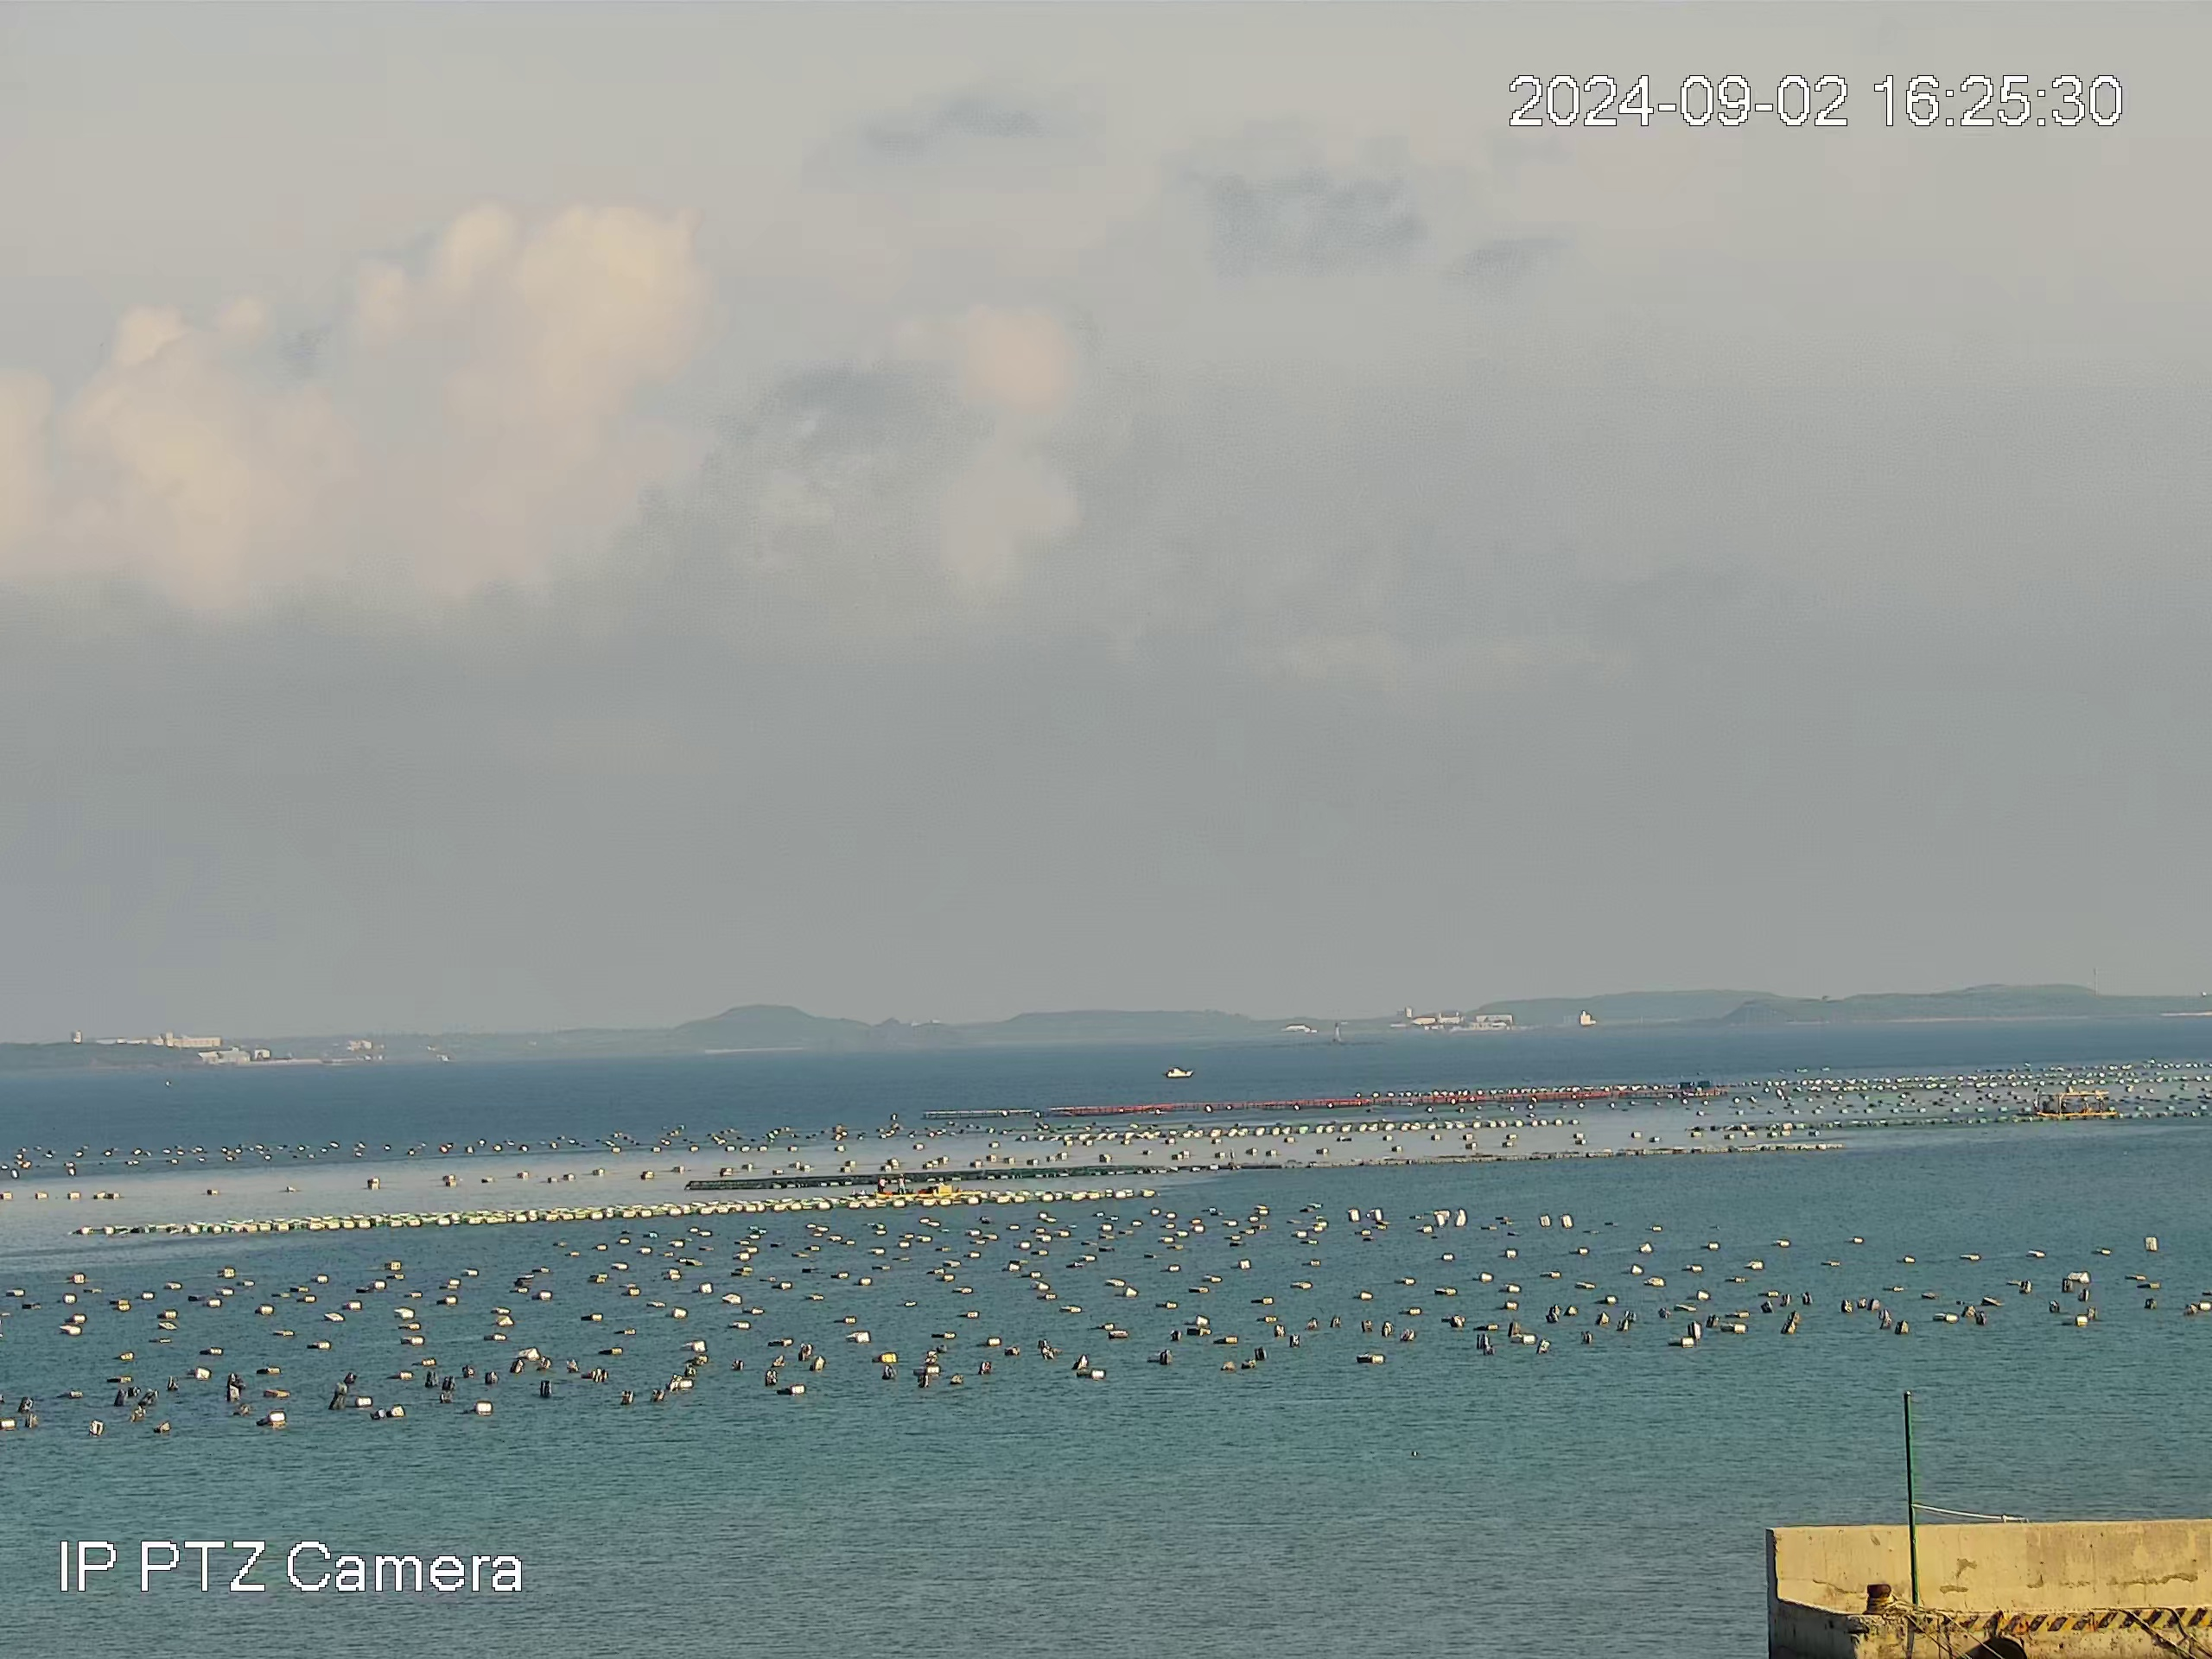boat: (874, 1173, 984, 1199), (2033, 1089, 2116, 1121), (1163, 1065, 1195, 1079)
